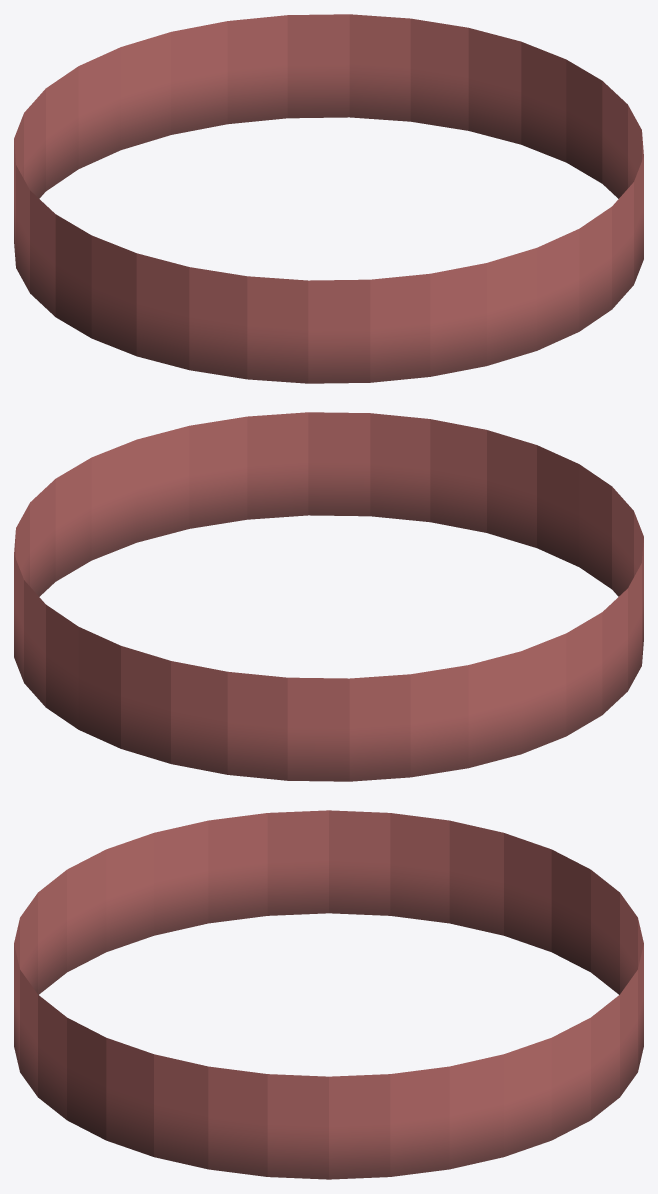
Rendered from Walls04.glb.
3 views of the same model, one above another, from view 1: azimuth 30°, elevation 25°; view 2: azimuth 150°, elevation 25°; view 3: azimuth 270°, elevation 25° (orthographic).
Parts seen in each view (by area): view 1: Walls04; view 2: Walls04; view 3: Walls04.
Boxes of the visible parts, x1,y1,x2,y2 form: Walls04: (14,14,643,383); Walls04: (14,412,643,781); Walls04: (14,810,643,1179).
Size of what is drawn, in the model's own units: 60 by 10.82 by 60.
1 material, 1 textured.
